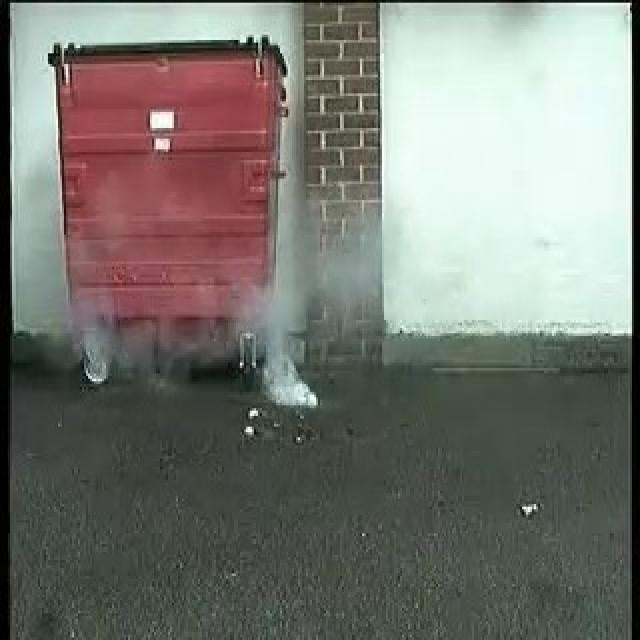smoke: (259, 225, 395, 406)
